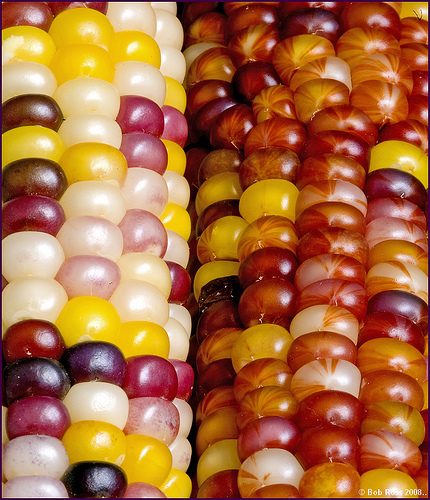corn: (186, 3, 428, 498), (2, 0, 196, 498)
